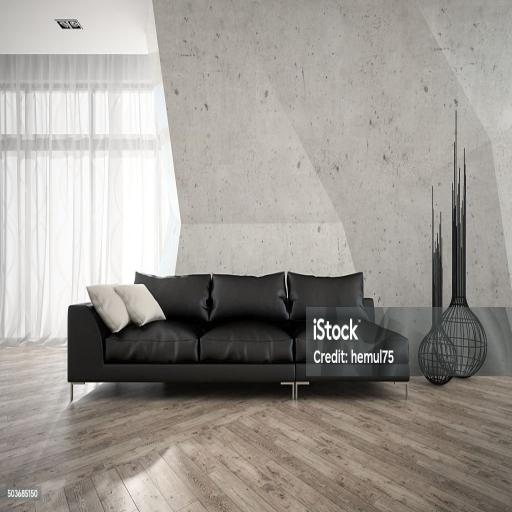back_cushion: (135, 272, 372, 325)
left_arm: (357, 321, 408, 366), (296, 328, 305, 362)
legs: (281, 381, 309, 399), (70, 382, 84, 400), (406, 384, 408, 398)
right_arm: (68, 303, 108, 381)
seat_cushion: (106, 317, 378, 362)
stallion-sofa2: (68, 272, 410, 399)
